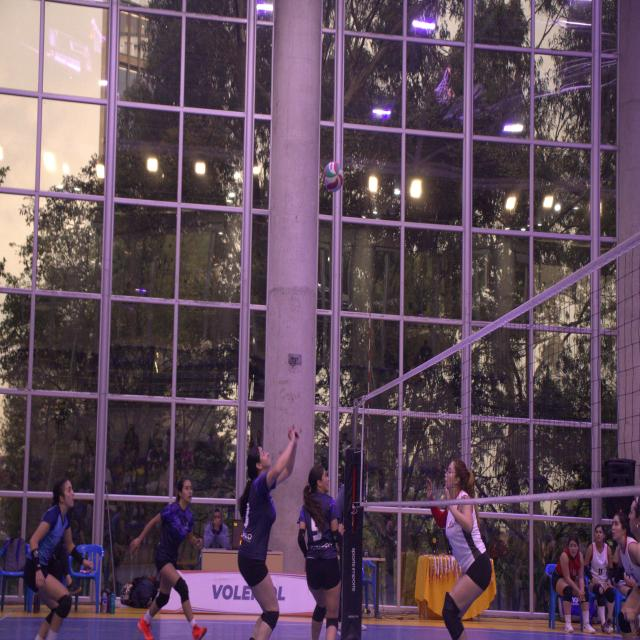volleyball: (324, 160, 344, 193)
